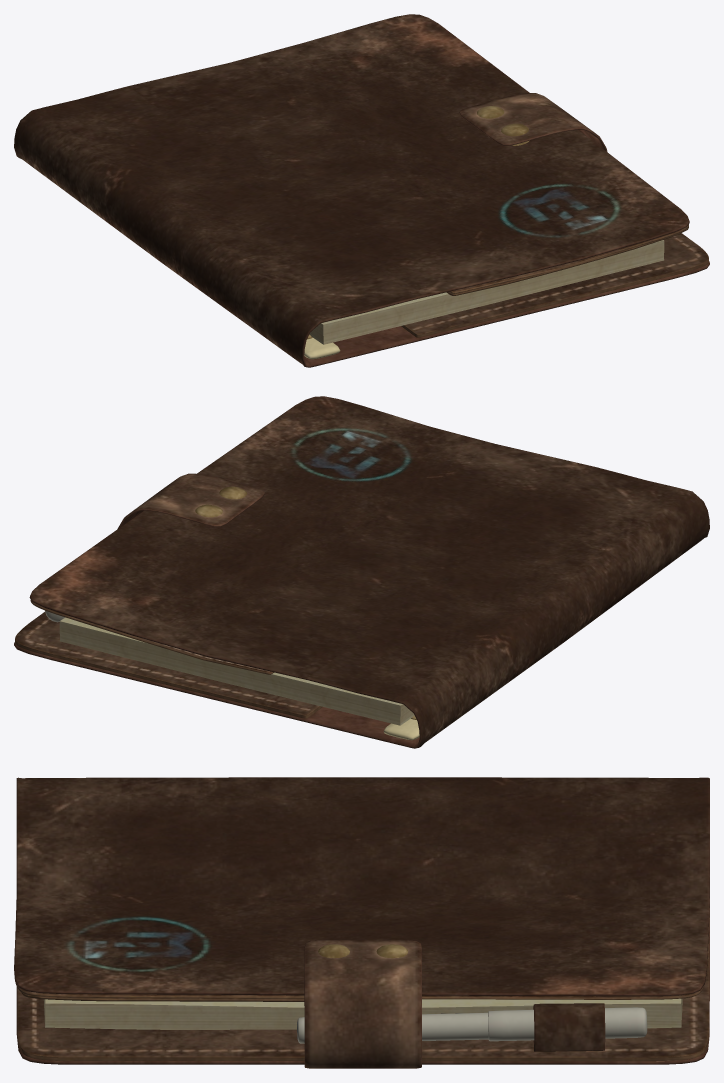
File: notebook.glb
3 views of the same model, one above another, from view 1: azimuth 30°, elevation 25°; view 2: azimuth 150°, elevation 25°; view 3: azimuth 270°, elevation 25° (orthographic). The views are drawn at different scales.
Parts seen in each view (by area): view 1: binder_notebook_closed; view 2: binder_notebook_closed; view 3: binder_notebook_closed.
Part boxes in pixels (bbox=[...]): binder_notebook_closed: bbox=[14, 14, 709, 367]; binder_notebook_closed: bbox=[14, 396, 709, 748]; binder_notebook_closed: bbox=[14, 777, 709, 1068].
Size of the model in its own units: 0.1706 by 0.0253 by 0.2.
1 material, 1 textured.
